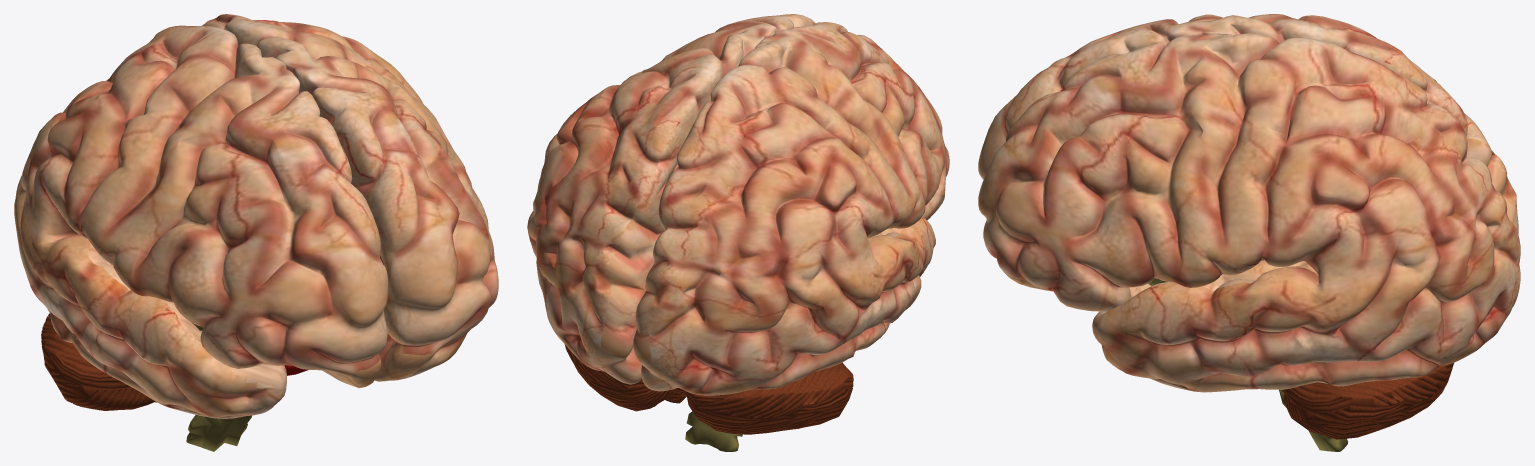
File: brain.gltf
3 views of the same model, side by side, from view 1: azimuth 30°, elevation 25°; view 2: azimuth 150°, elevation 25°; view 3: azimuth 270°, elevation 25° (orthographic). The views are drawn at different scales.
Visible parts, largest first — view 1: Brain; view 2: Brain; view 3: Brain.
Boxes of the visible parts, x1,y1,x2,y2 form: Brain: (14,14,498,451); Brain: (527,14,949,451); Brain: (978,14,1520,451).
Size of the model in its own units: 0.892 by 0.9471 by 1.11.
2 materials, 2 textured.
